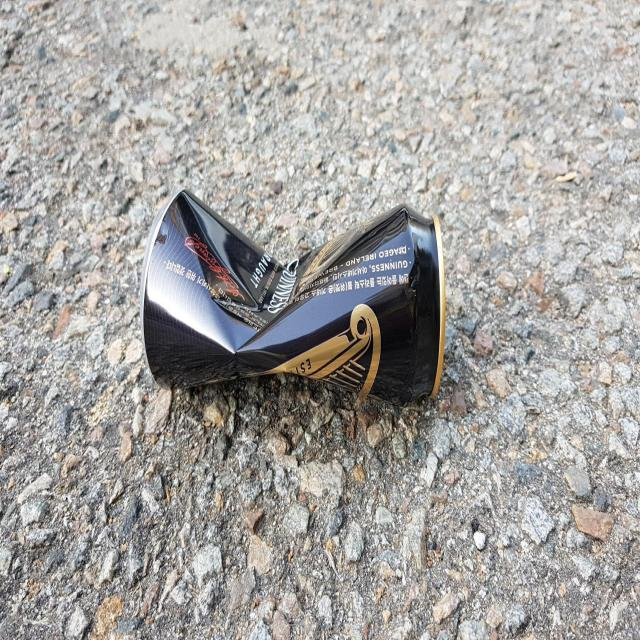can: (140, 188, 446, 403)
